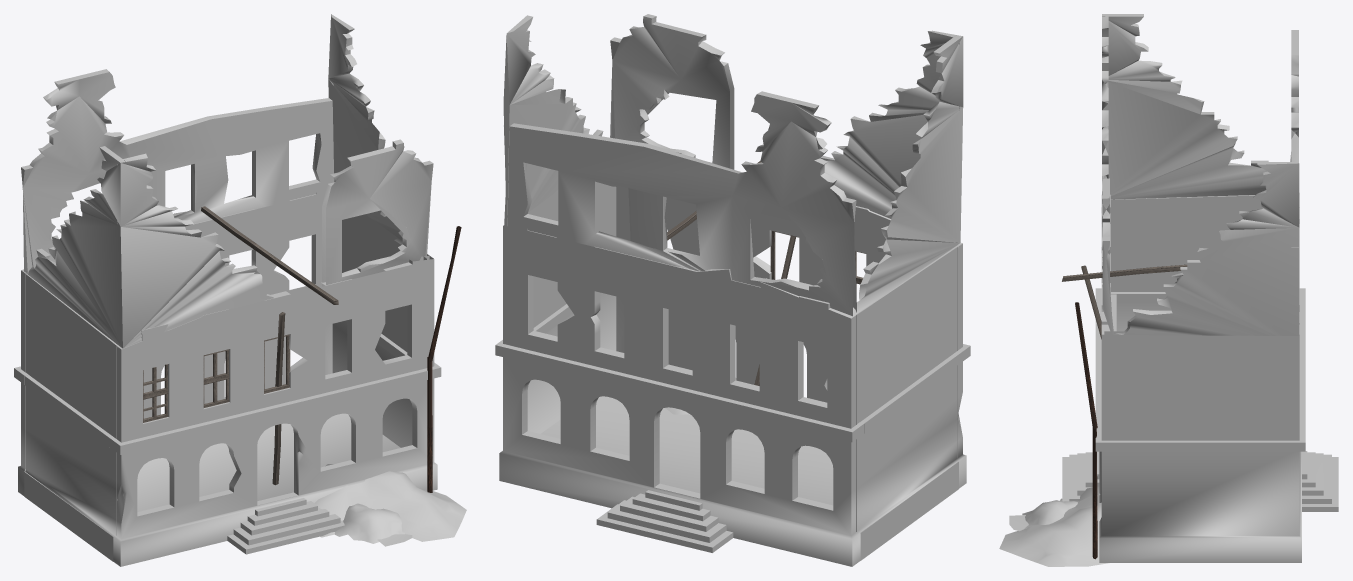
The model's file is house yellow 1_LOD1.fbx.
3 renders of one model, left to right at view 1: azimuth 30°, elevation 25°; view 2: azimuth 150°, elevation 25°; view 3: azimuth 270°, elevation 25°, orthographic. The views are drawn at different scales.
Parts seen in each view (by area): view 1: house_yellow_1_LOD1; view 2: house_yellow_1_LOD1; view 3: house_yellow_1_LOD1.
Part boxes in pixels (box(x1,y1,x2,y2)): house_yellow_1_LOD1: box(14, 14, 466, 566); house_yellow_1_LOD1: box(495, 14, 970, 566); house_yellow_1_LOD1: box(999, 14, 1338, 566).
Bounding box in the file's own units: 9.52 × 11.13 × 8.58.
